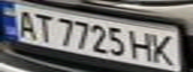2: (87, 21, 109, 55)
5: (106, 25, 130, 58)
7: (51, 16, 75, 47), (69, 19, 90, 51)
A: (12, 7, 39, 39)
H: (127, 28, 157, 62)
K: (148, 32, 178, 66)
T: (30, 11, 57, 43)
